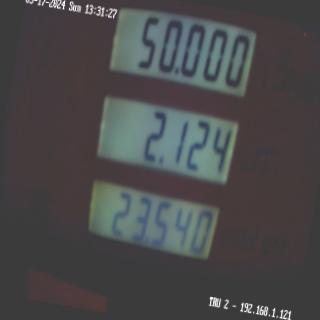screen: (70, 0, 262, 283)
